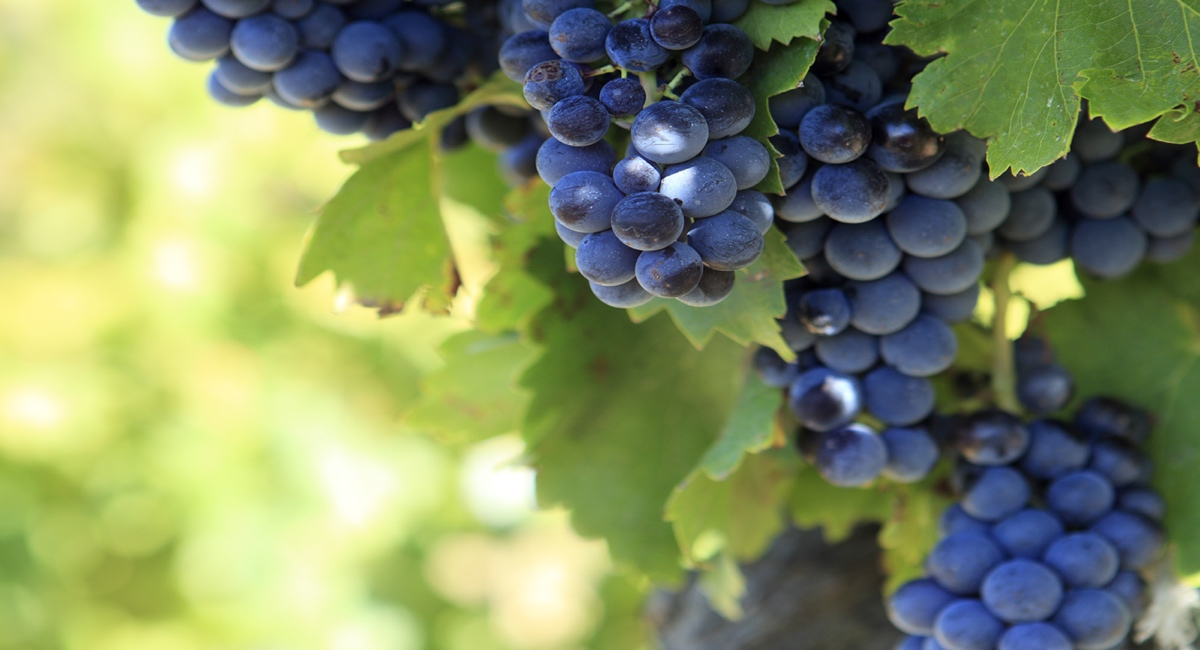Black grapes: (795, 104, 948, 484), (544, 35, 763, 293), (980, 431, 1106, 650)
